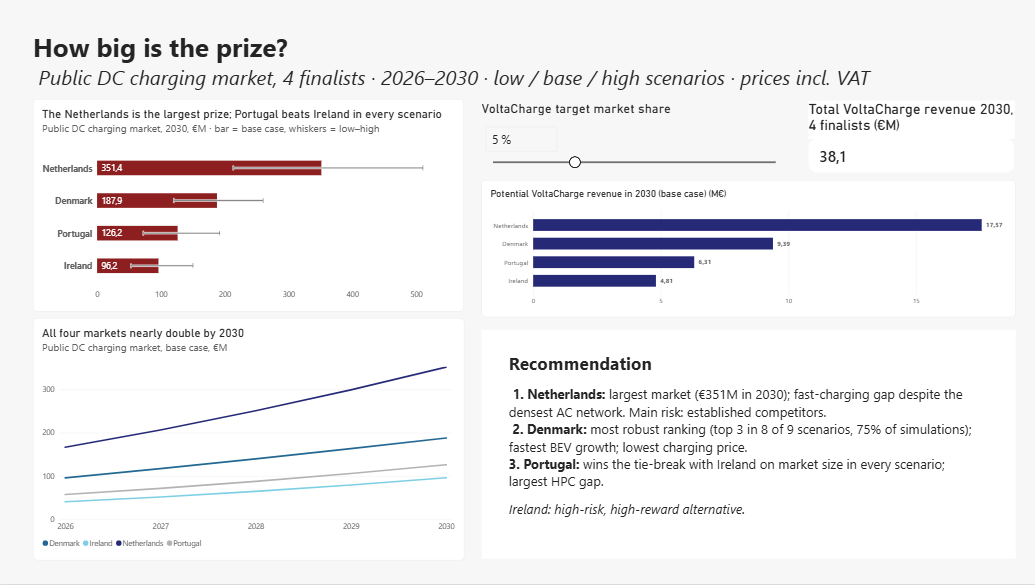

This screenshot's page, from the dashboard's own definition file:
{"tool":"powerbi","page":{"name":"Finalists","canvas":[1920,1080],"ordinal":2},"visuals":[{"type":"slicer","title":"VoltaCharge target market share","fields":{"Values":["Target share.Target share"]},"box":[892.3,186.1,563.1,133.6],"z":0},{"type":"textbox","box":[62,54,1796,130],"z":1000},{"type":"clusteredBarChart","title":"The Netherlands is the largest prize; Portugal beats Ireland in every scenario","fields":{"Category":["dim_country.country"],"Y":["_measures.Market 2030 Base (M€)"]},"box":[62,184,798,394],"z":2000},{"type":"lineChart","title":"All four markets nearly double by 2030","fields":{"Category":["tbl_market.year"],"Series":["dim_country.country"],"Y":["Sum(tbl_market.market_m_eur)"]},"box":[61.7,588.3,798.3,448.3],"z":3000},{"type":"clusteredBarChart","title":"Potential VoltaCharge revenue in 2030 (base case) (M€)","fields":{"Category":["dim_country.country"],"Y":["_measures.VoltaCharge Revenue 2030 (M€)"]},"box":[891.2,333.5,989.6,254.2],"z":4000},{"type":"cardVisual","title":"Total VoltaCharge revenue 2030, 4 finalists (€M)","fields":{"Data":["_measures.VoltaCharge Revenue 2030 (M€)"]},"box":[1498.4,186.1,381.7,133.6],"z":5000},{"type":"textbox","box":[891.2,612.4,989.6,423],"z":6000}]}

Visuals, with their boxes in screenshot pixels (x1, y1, x2, y2), scaled from the page's 1920x1080 canvas onto the 1035x585 screenshot:
"VoltaCharge target market share" slicer: region(481, 101, 785, 173)
textbox: region(33, 29, 1002, 100)
"The Netherlands is the largest prize; Portugal beats Ireland in every scenario" clusteredBarChart: region(33, 100, 464, 313)
"All four markets nearly double by 2030" lineChart: region(33, 319, 464, 561)
"Potential VoltaCharge revenue in 2030 (base case) (M€)" clusteredBarChart: region(480, 181, 1014, 318)
"Total VoltaCharge revenue 2030, 4 finalists (€M)" cardVisual: region(808, 101, 1013, 173)
textbox: region(480, 332, 1014, 561)
